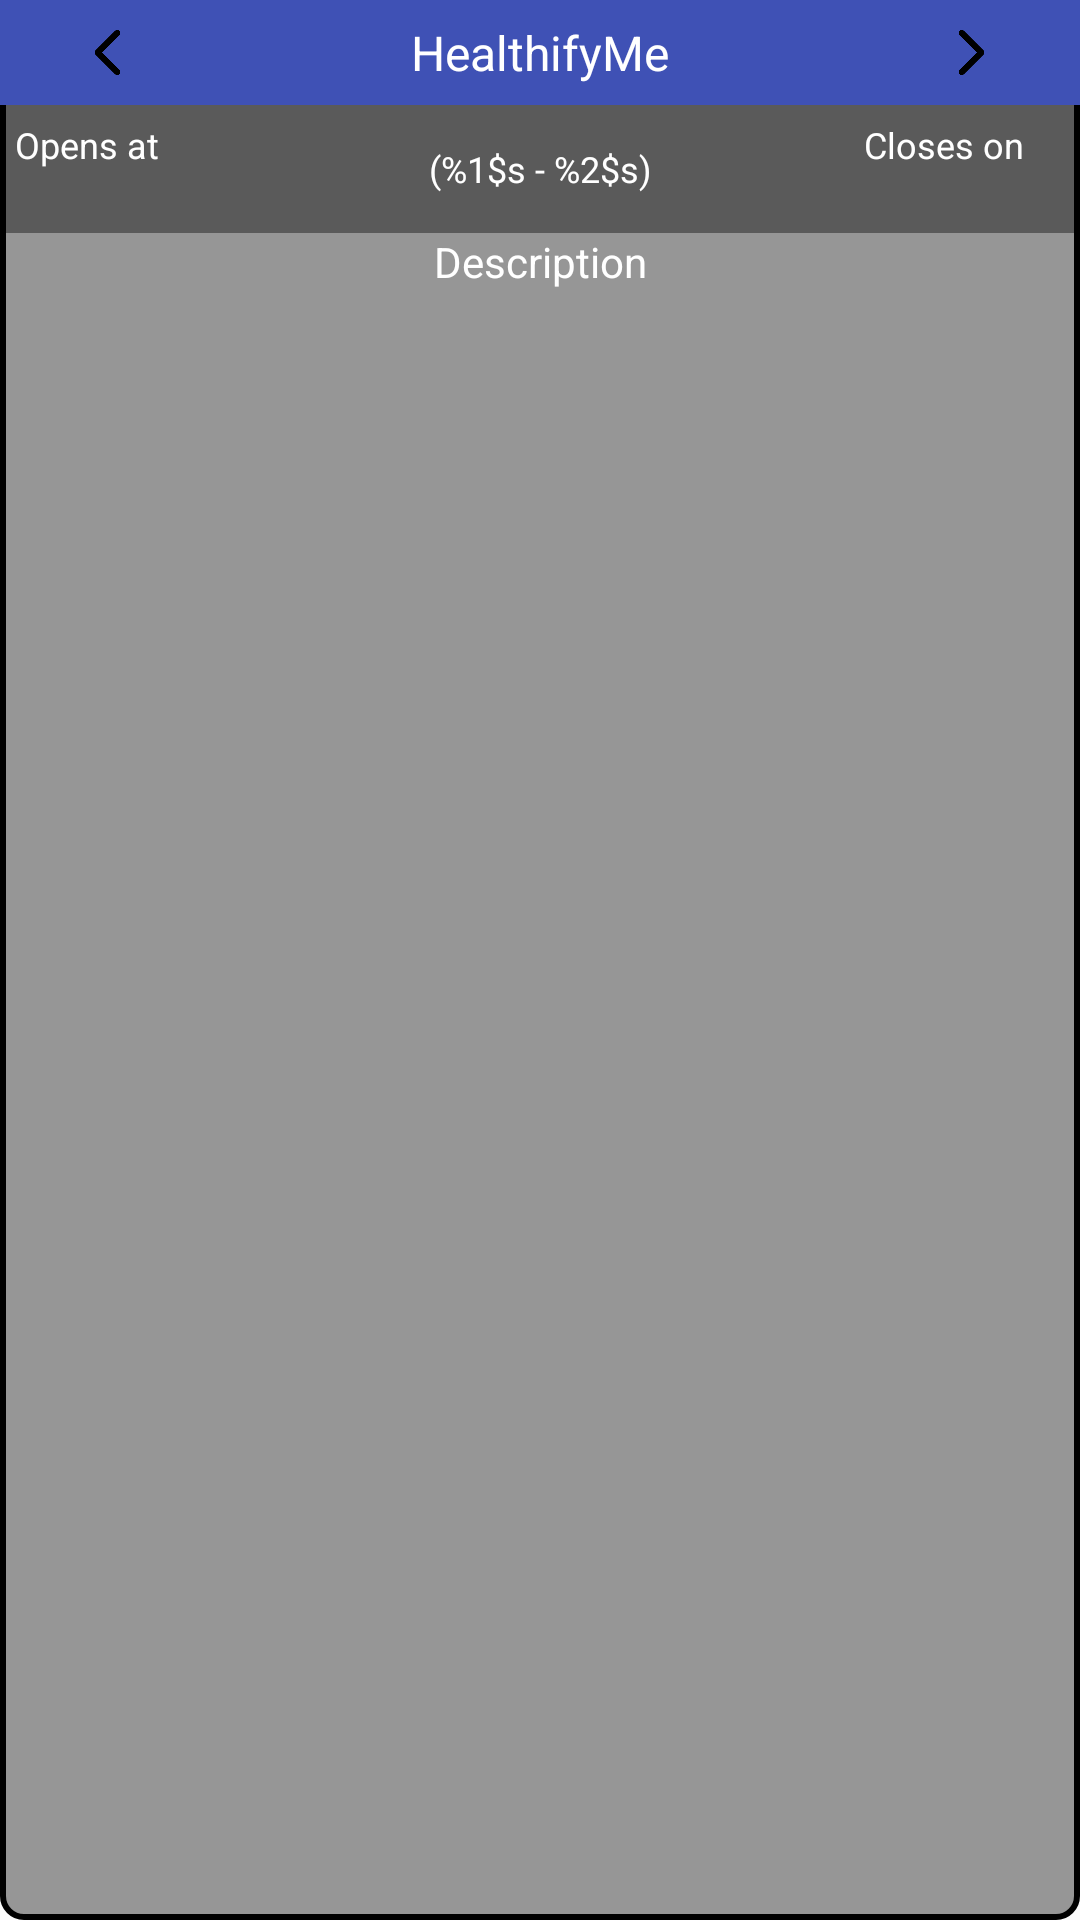

Where icons sit on this 1080px×1920px app screen, as (x1, y1, x2, y2):
arrow left: (95, 30, 120, 75)
arrows right: (959, 30, 984, 75)
